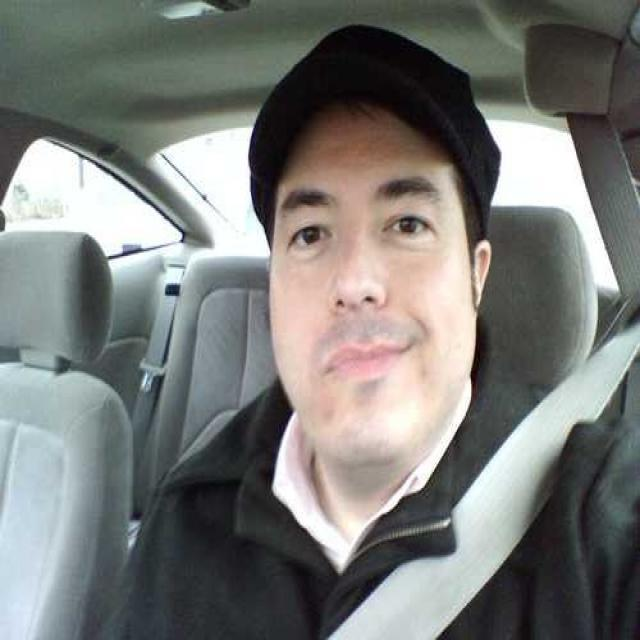seatbelt: (334, 312, 629, 638)
